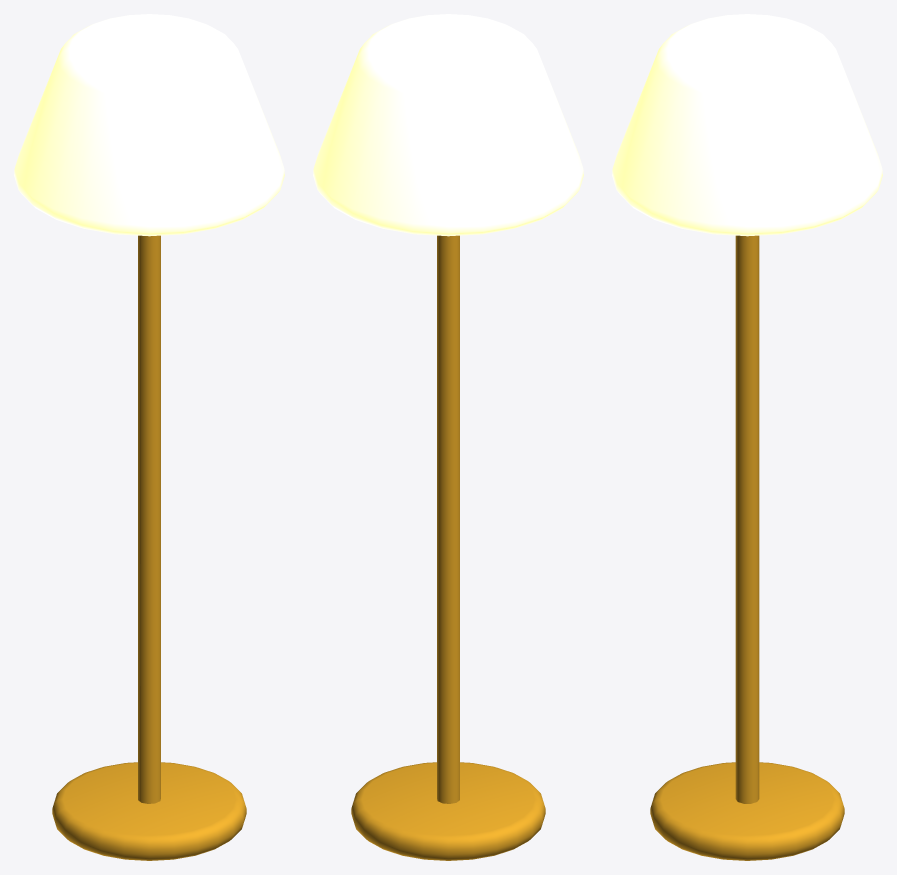
The model's file is floor_lamp.glb.
3 views of the same model, side by side, from view 1: azimuth 30°, elevation 25°; view 2: azimuth 150°, elevation 25°; view 3: azimuth 270°, elevation 25° (orthographic).
Visible parts, largest first — view 1: FloorLamp; view 2: FloorLamp; view 3: FloorLamp.
Part boxes in pixels (left/top/right/bottom): FloorLamp: left=14, top=14, right=284, bottom=860; FloorLamp: left=313, top=14, right=583, bottom=860; FloorLamp: left=612, top=14, right=882, bottom=860.
Bounding box in the file's own units: 0.5018 × 1.59 × 0.5018.
